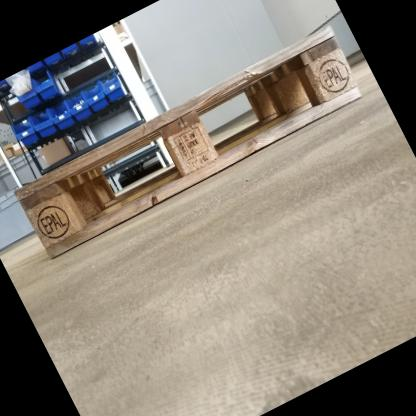BoxFace: (8, 14, 369, 264)
